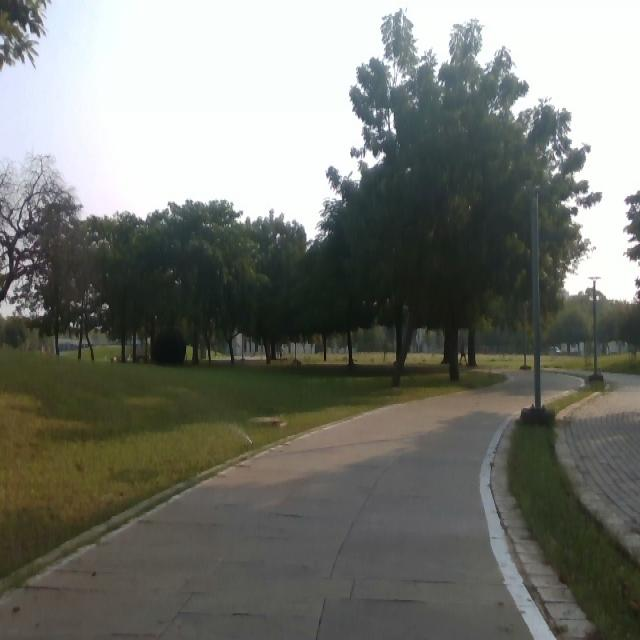lane: (0, 368, 580, 640)
